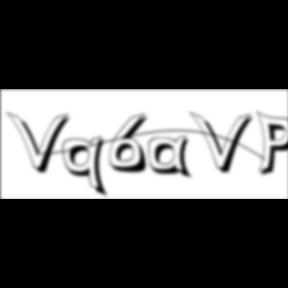6: (110, 112, 154, 176)
V: (190, 110, 258, 176), (7, 110, 74, 176)
a: (149, 135, 197, 182)
q: (64, 135, 112, 200)
